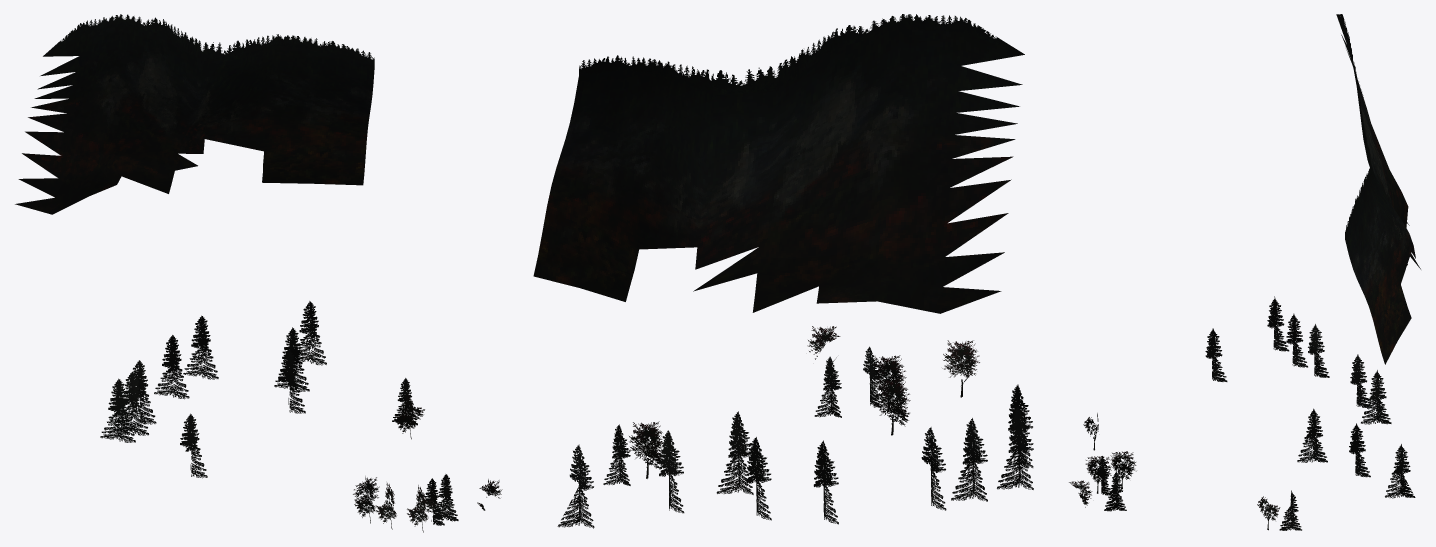
Rendered from cell_12_-14.gltf.
The picture shows the model from 3 angles, left to right: view 1: azimuth 30°, elevation 25°; view 2: azimuth 150°, elevation 25°; view 3: azimuth 270°, elevation 25°; orthographic projection. The views are drawn at different scales.
Parts seen in each view (by area): view 1: cell_12_-14; view 2: cell_12_-14; view 3: cell_12_-14.
Boxes of the visible parts, x1=… form: cell_12_-14: x1=15, y1=14, x2=502, y2=532; cell_12_-14: x1=533, y1=14, x2=1033, y2=528; cell_12_-14: x1=1069, y1=14, x2=1420, y2=530.
Size of the model in its own units: 279 by 346 by 282.
Materials: 5 (5 with a texture image).
